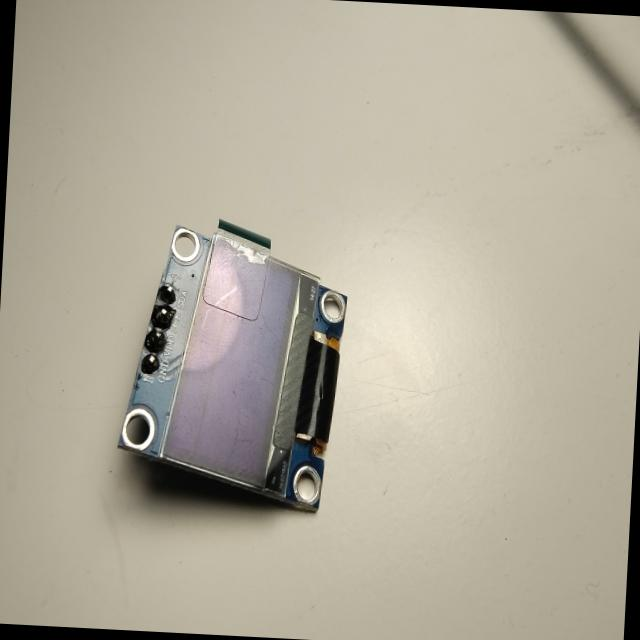oled: (106, 197, 360, 524)
